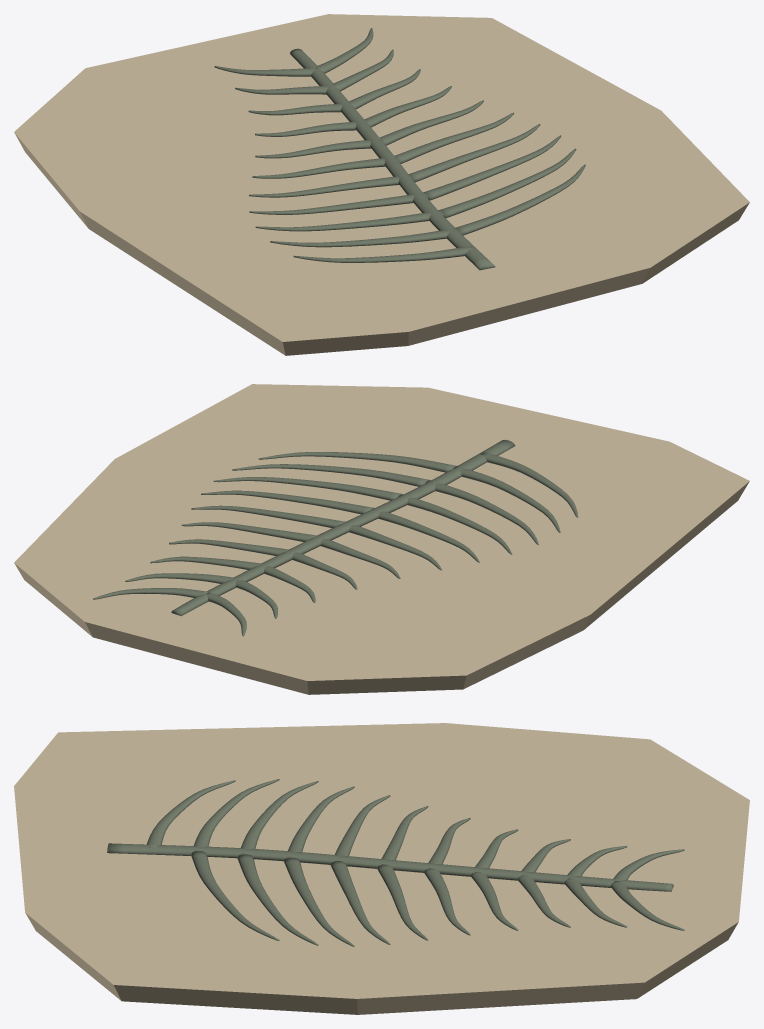
The model's file is buthograptus.glb.
3 renders of one model, top to bottom at view 1: azimuth 30°, elevation 25°; view 2: azimuth 150°, elevation 25°; view 3: azimuth 270°, elevation 25°, orthographic. The views are drawn at different scales.
Visible parts, largest first — view 1: original-shallow-specimen-support-slab, up-curved-tapered-laterals-of-preserved-fragment, cropped-central-thallus-axis; view 2: original-shallow-specimen-support-slab, up-curved-tapered-laterals-of-preserved-fragment, cropped-central-thallus-axis; view 3: original-shallow-specimen-support-slab, up-curved-tapered-laterals-of-preserved-fragment, cropped-central-thallus-axis.
Part boxes in pixels (x1=…): original-shallow-specimen-support-slab: x1=14, y1=14, x2=749, y2=355; up-curved-tapered-laterals-of-preserved-fragment: x1=214, y1=28, x2=585, y2=262; cropped-central-thallus-axis: x1=289, y1=48, x2=495, y2=270; original-shallow-specimen-support-slab: x1=14, y1=384, x2=749, y2=694; up-curved-tapered-laterals-of-preserved-fragment: x1=93, y1=452, x2=578, y2=636; cropped-central-thallus-axis: x1=171, y1=440, x2=515, y2=616; original-shallow-specimen-support-slab: x1=14, y1=723, x2=749, y2=1014; up-curved-tapered-laterals-of-preserved-fragment: x1=146, y1=779, x2=684, y2=946; cropped-central-thallus-axis: x1=107, y1=843, x2=673, y2=891.
Bounding box in the file's own units: 0.118 × 0.00522 × 0.133.
